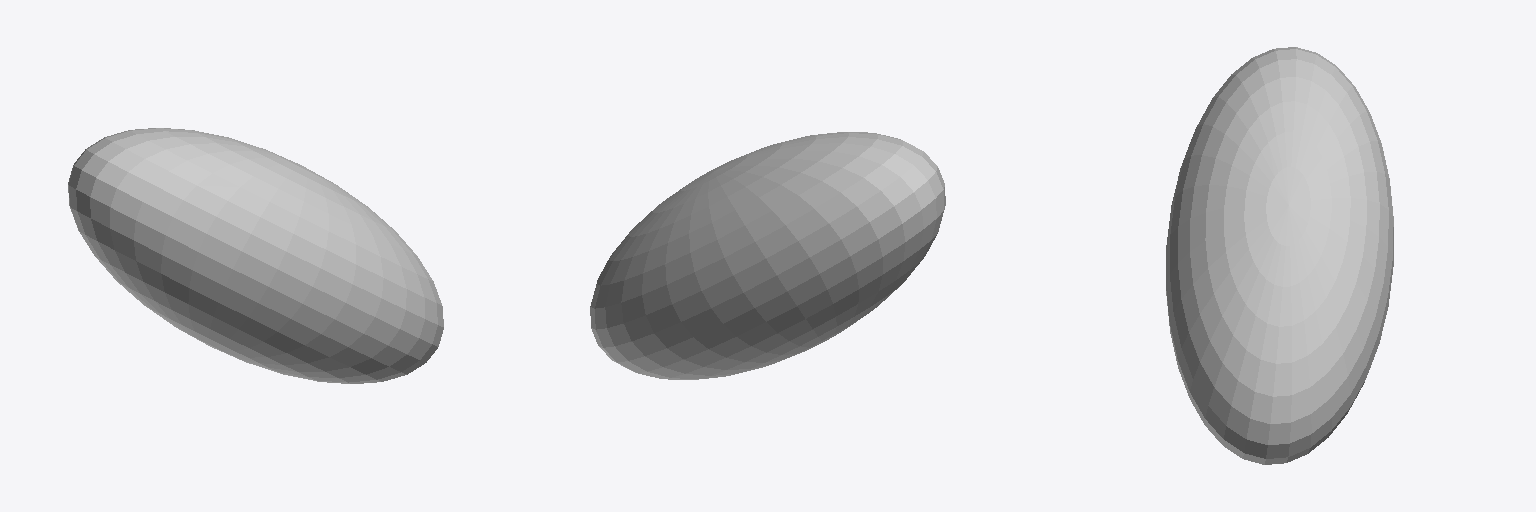
The model's file is Right Foot.obj.
The picture shows the model from 3 angles: view 1: azimuth 30°, elevation 25°; view 2: azimuth 150°, elevation 25°; view 3: azimuth 270°, elevation 25°; orthographic projection.
Visible parts, largest first — view 1: Right_Foot_Sphere.009; view 2: Right_Foot_Sphere.009; view 3: Right_Foot_Sphere.009.
Boxes of the visible parts, x1,y1,x2,y2 form: Right_Foot_Sphere.009: [68, 128, 443, 383]; Right_Foot_Sphere.009: [590, 132, 945, 379]; Right_Foot_Sphere.009: [1166, 47, 1393, 464].
Bounding box in the file's own units: 1.07 × 0.8383 × 0.6075.